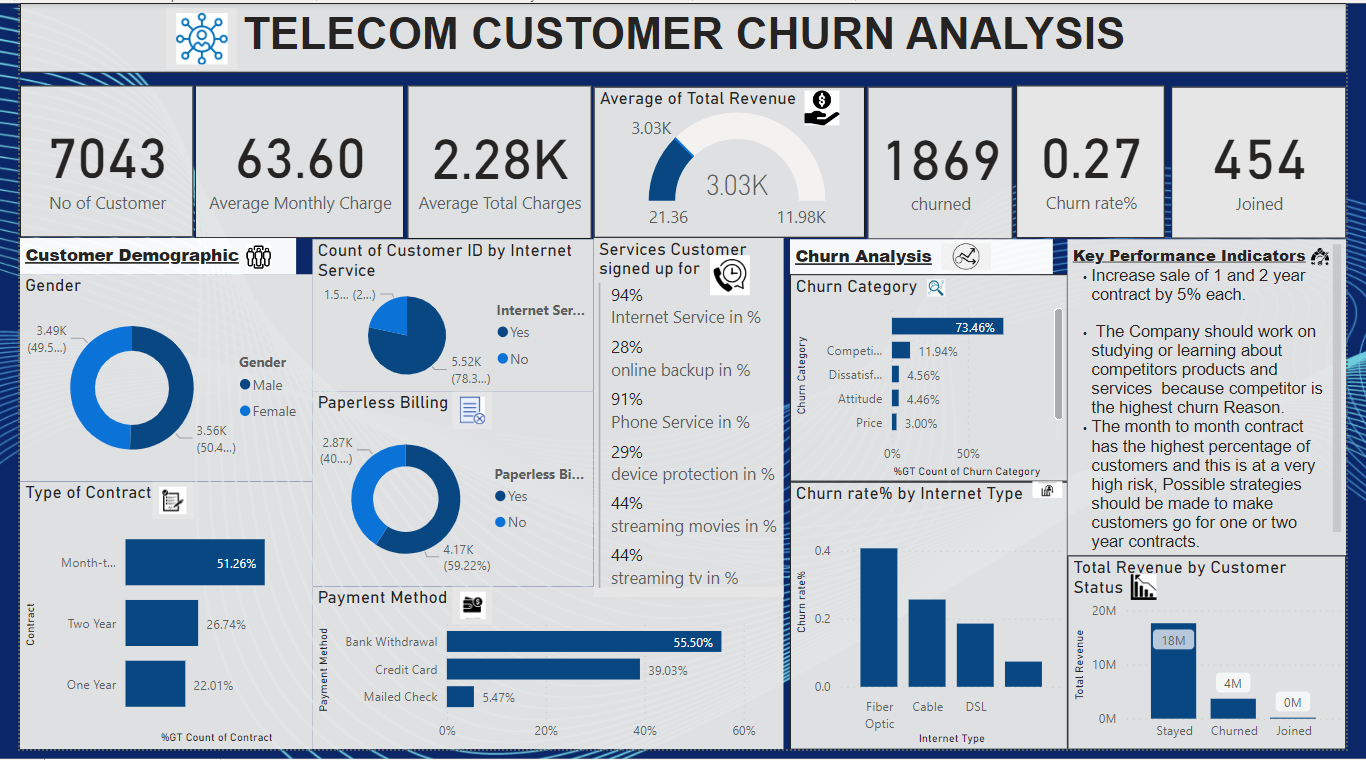

The page's visual inventory and layout, read from the dashboard file:
{"tool":"powerbi","page":{"name":"Customer Analysis","canvas":[1280,720],"ordinal":0},"visuals":[{"type":"textbox","box":[0,0,1280,67.2],"z":0},{"type":"card","fields":{"Values":["Count(telecom_customer_churn.Customer ID)"]},"box":[0,79.6,167.4,146.8],"z":1000},{"type":"card","fields":{"Values":["Avg(telecom_customer_churn.Monthly Charge)"]},"box":[168.8,79.6,201.4,147.1],"z":2000},{"type":"card","fields":{"Values":["telecom_customer_churn.churned"]},"box":[817.7,80.8,139.9,147.1],"z":3000},{"type":"card","fields":{"Values":["telecom_customer_churn.Churn rate%"]},"box":[961.2,79.6,143.5,147.1],"z":4000},{"type":"clusteredBarChart","title":"Type of Contract","fields":{"Category":["telecom_customer_churn.Contract"],"Y":["CountNonNull(telecom_customer_churn.Contract)"]},"box":[0,461.9,282.2,258.1],"z":5000},{"type":"donutChart","title":" Gender","fields":{"Category":["telecom_customer_churn.Gender"],"Y":["CountNonNull(telecom_customer_churn.Gender)"]},"box":[0,261.7,282.2,200.2],"z":6000},{"type":"card","fields":{"Values":["telecom_customer_churn.Joined"]},"box":[1111.3,80.9,168.7,146.8],"z":7000},{"type":"clusteredColumnChart","fields":{"Y":["telecom_customer_churn.Churn rate%"],"Category":["telecom_customer_churn.Internet Type"]},"box":[742.9,461.9,267.7,258.1],"z":8000},{"type":"card","fields":{"Values":["Avg(telecom_customer_churn.Total Charges)"]},"box":[373.9,79.6,177.3,148.3],"z":9000},{"type":"clusteredBarChart","title":"Payment Method","fields":{"Y":["CountNonNull(telecom_customer_churn.Payment Method)"],"Category":["telecom_customer_churn.Payment Method"]},"box":[282.2,563.2,454.7,156.8],"z":10000},{"type":"donutChart","title":" Paperless Billing","fields":{"Category":["telecom_customer_churn.Paperless Billing"],"Y":["CountNonNull(telecom_customer_churn.Paperless Billing)"]},"box":[282.2,375.1,271.4,188.1],"z":11000},{"type":"multiRowCard","title":"Services Customer signed up for","fields":{"Values":["telecom_customer_churn.Internet Service in %","telecom_customer_churn.online backup in %","telecom_customer_churn.Phone Service in %","telecom_customer_churn.device protection in %","telecom_customer_churn.streaming movies in %","telecom_customer_churn.streaming tv in %"]},"box":[553.6,226.7,183.3,346.1],"z":12000},{"type":"gauge","title":"Average of Total Revenue","fields":{"MinValue":["Min(telecom_customer_churn.Total Revenue)"],"MaxValue":["Max(telecom_customer_churn.Total Revenue)"],"Y":["Avg(telecom_customer_churn.Total Revenue)"],"TargetValue":["Avg(telecom_customer_churn.Total Revenue)"]},"box":[553.6,80.8,261.7,145.9],"z":13000},{"type":"clusteredBarChart","title":"Churn Category","fields":{"Category":["telecom_customer_churn.Churn Category"],"Y":["Divide(CountNonNull(telecom_customer_churn.Churn Category), ScopedEval(CountNonNull(telecom_customer_churn.Churn Categor"]},"box":[742.9,261.7,267.7,200.2],"z":14000},{"type":"textbox","box":[742.9,227.9,253.3,33.8],"z":15000},{"type":"lineStackedColumnComboChart","title":" Total Revenue by Customer Status","fields":{"Category":["telecom_customer_churn.Customer Status"],"Y":["Sum(telecom_customer_churn.Total Revenue)"]},"box":[1010.7,533.1,268.9,186.9],"z":16000},{"type":"textbox","box":[0,226.7,266.5,35],"z":17000},{"type":"pieChart","fields":{"Y":["CountNonNull(telecom_customer_churn.Customer ID)"],"Category":["telecom_customer_churn.Internet Service"]},"box":[282.2,227.9,271.4,147.1],"z":18000},{"type":"textbox","box":[1010.7,227.9,268.9,305.1],"z":19000},{"type":"image","box":[141.1,4.8,68.7,59.1],"z":20000},{"type":"image","box":[417.3,563.2,38.6,36.2],"z":21000},{"type":"image","box":[209.8,227.9,41,35],"z":22000},{"type":"image","box":[417.3,375.1,38.6,36.2],"z":23000},{"type":"image","box":[127.8,461.9,39.8,36.2],"z":24000},{"type":"image","box":[884,218.3,57.9,53.1],"z":25000},{"type":"image","box":[867.1,261.7,33.8,26.5],"z":26000},{"type":"image","box":[972.1,451.1,38.6,36.2],"z":27000},{"type":"image","box":[1063.7,546.3,41,35],"z":28000},{"type":"image","box":[660.9,236.4,48.2,53.1],"z":28001},{"type":"image","box":[1239.8,227.9,28.9,33.8],"z":28002},{"type":"image","box":[751.4,79.6,44.6,43.4],"z":28003}]}

Visuals, with their boxes in screenshot pixels (x1, y1, x2, y2), scaled from the page's 1280x720 canvas onto the 1366x760 screenshot:
textbox: 0,0,1365,71
card - Count(telecom_customer_churn.Customer ID): 0,84,179,239
card - Avg(telecom_customer_churn.Monthly Charge): 180,84,395,239
card - telecom_customer_churn.churned: 873,85,1022,241
card - telecom_customer_churn.Churn rate%: 1026,84,1179,239
"Type of Contract" clusteredBarChart: 0,488,301,759
" Gender" donutChart: 0,276,301,488
card - telecom_customer_churn.Joined: 1186,85,1365,240
clusteredColumnChart - telecom_customer_churn.Churn rate% x telecom_customer_churn.Internet Type: 793,488,1078,759
card - Avg(telecom_customer_churn.Total Charges): 399,84,588,241
"Payment Method" clusteredBarChart: 301,594,786,759
" Paperless Billing" donutChart: 301,396,591,594
"Services Customer signed up for" multiRowCard: 591,239,786,605
"Average of Total Revenue" gauge: 591,85,870,239
"Churn Category" clusteredBarChart: 793,276,1078,488
textbox: 793,241,1063,276
" Total Revenue by Customer Status" lineStackedColumnComboChart: 1079,563,1365,759
textbox: 0,239,284,276
pieChart - CountNonNull(telecom_customer_churn.Customer ID) x telecom_customer_churn.Internet Service: 301,241,591,396
textbox: 1079,241,1365,563
image: 151,5,224,67
image: 445,594,487,633
image: 224,241,268,278
image: 445,396,487,434
image: 136,488,179,526
image: 943,230,1005,286
image: 925,276,961,304
image: 1037,476,1079,514
image: 1135,577,1179,614
image: 705,250,757,306
image: 1323,241,1354,276
image: 802,84,849,130
